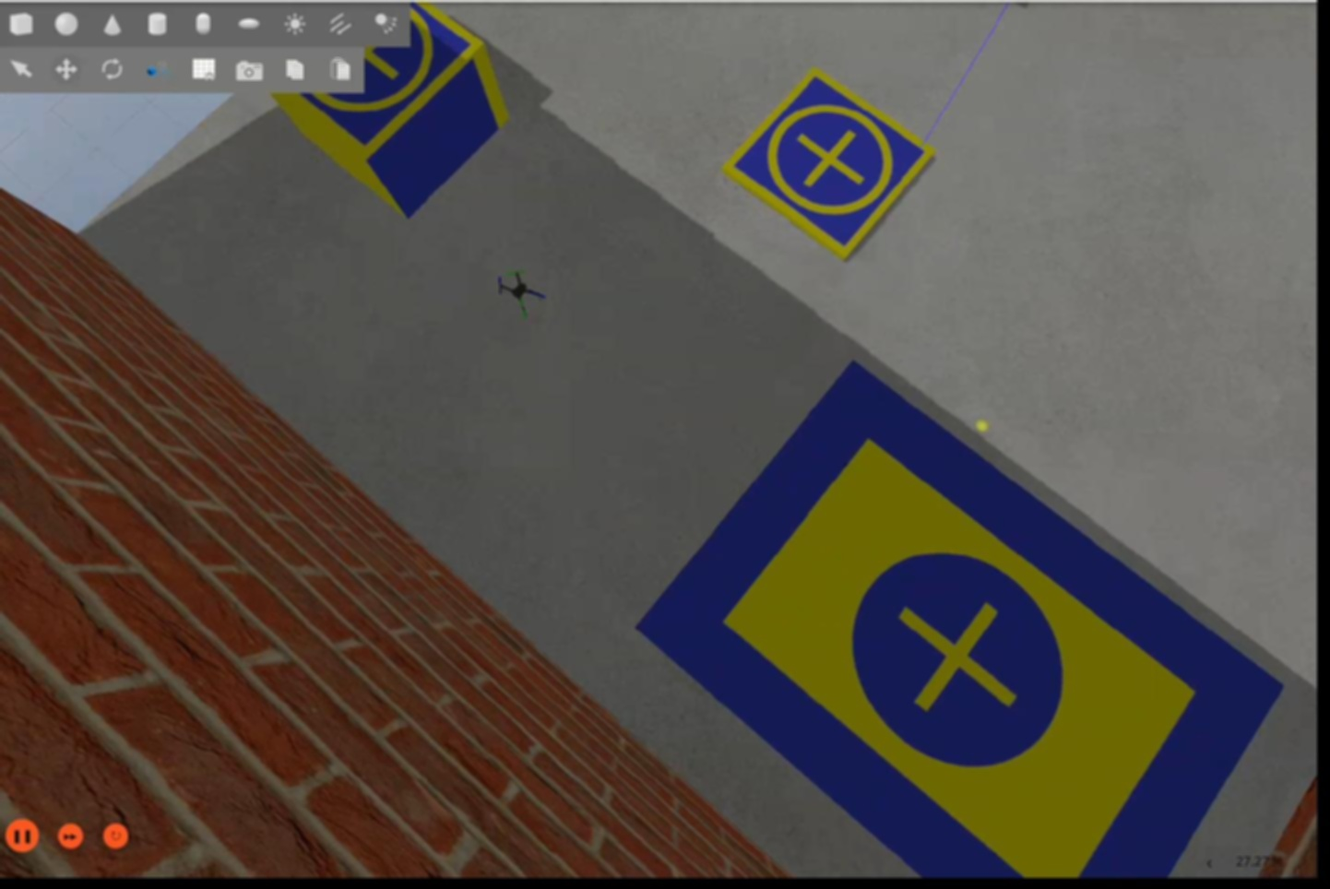large_base: (636, 358, 1282, 878)
small_base: (725, 76, 935, 258), (279, 5, 488, 156)
